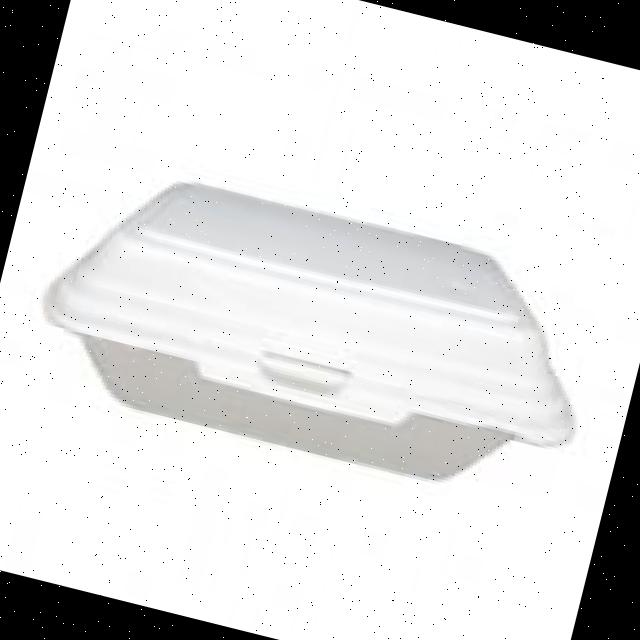styrofoam: (19, 144, 614, 514)
